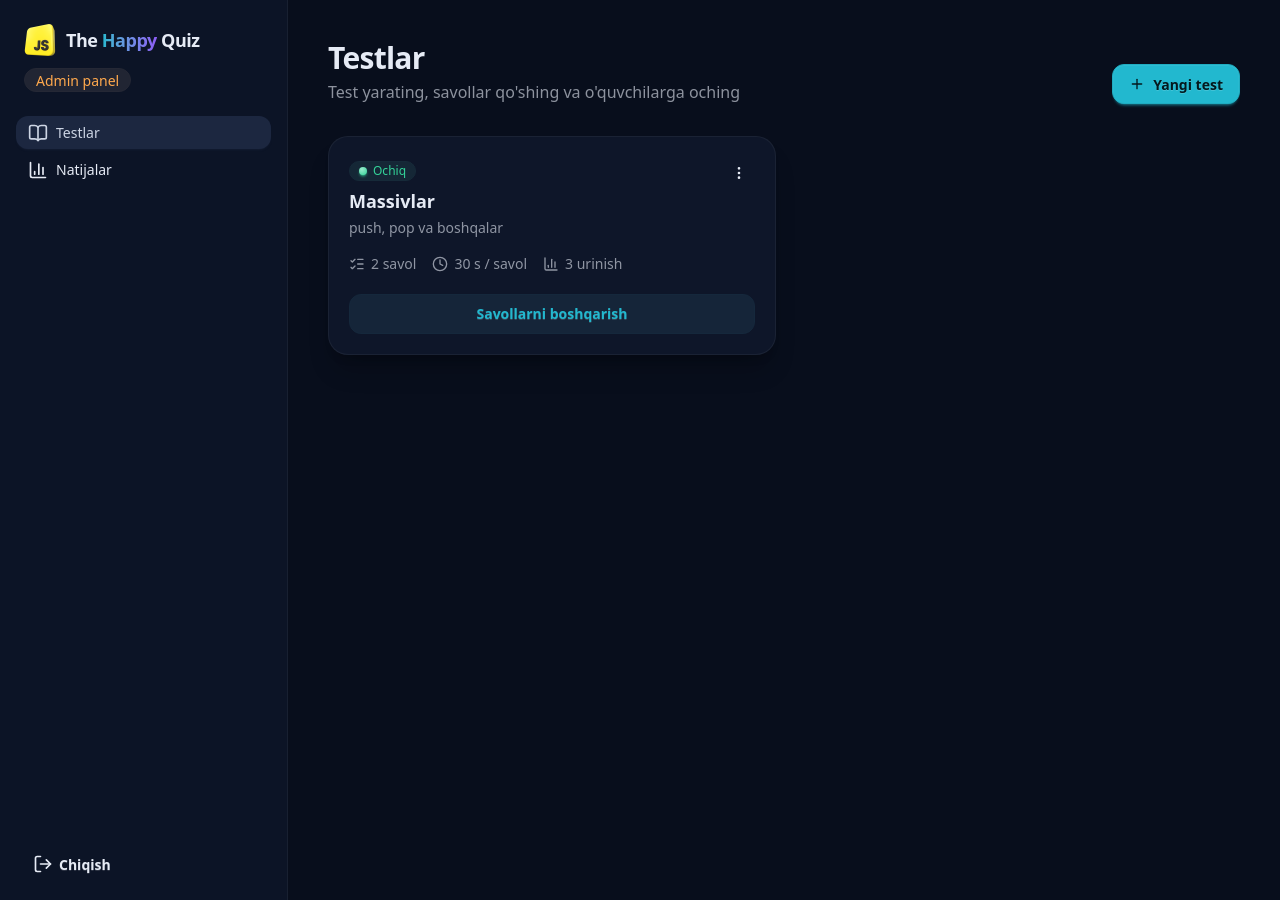
Test: admin › testlar, savollar, statistika va AI tablari ochiladi
Expected: the heading "Massivlar" is shown, 349,189 -> 435,213
Click the link "Savollarni boshqarish".
click(552, 314)  # box 349,294 -> 755,334
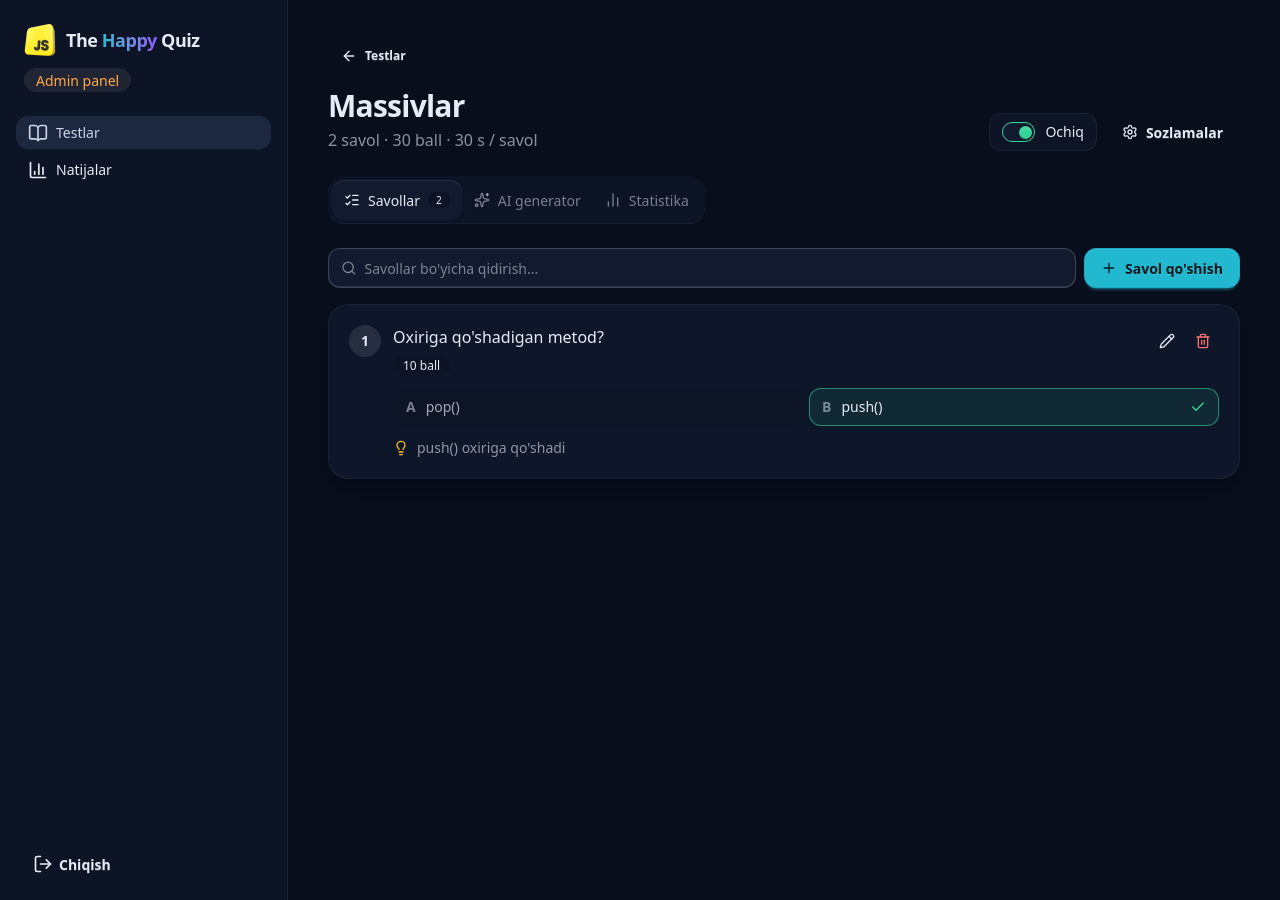
Result: the text "Oxiriga qo'shadigan metod?" is shown at 393,326 -> 604,348
Result: the text "push() oxiriga qo'shadi" is shown at 393,438 -> 566,457
Click the tab "Statistika".
click(647, 200)  # box 593,180 -> 701,220
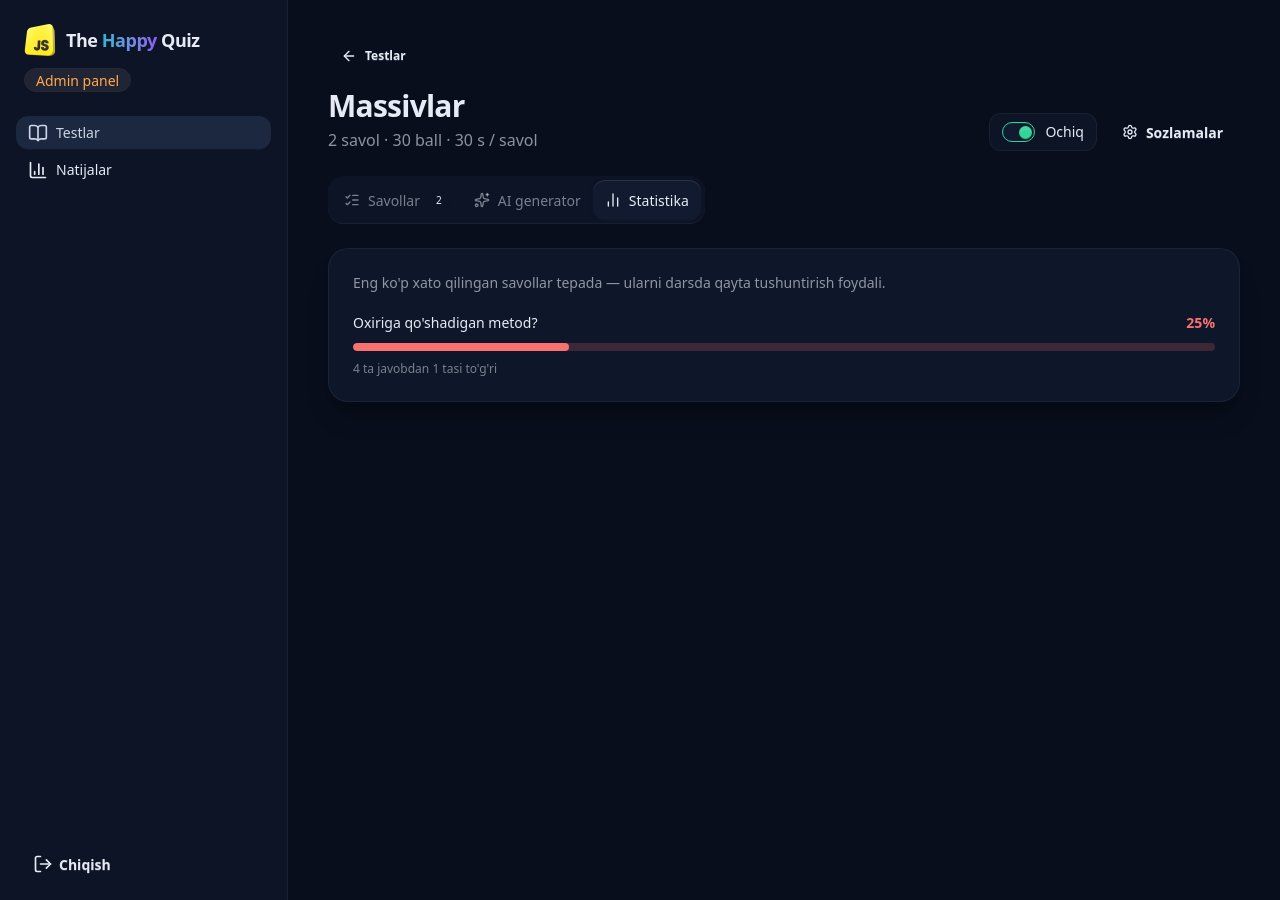
Result: the text "25%" is shown at 1186,313 -> 1215,333
Result: the text "4 ta javobdan 1 tasi to'g'ri" is shown at 353,360 -> 497,377
Click the tab "AI generator".
click(527, 200)  # box 462,180 -> 593,220
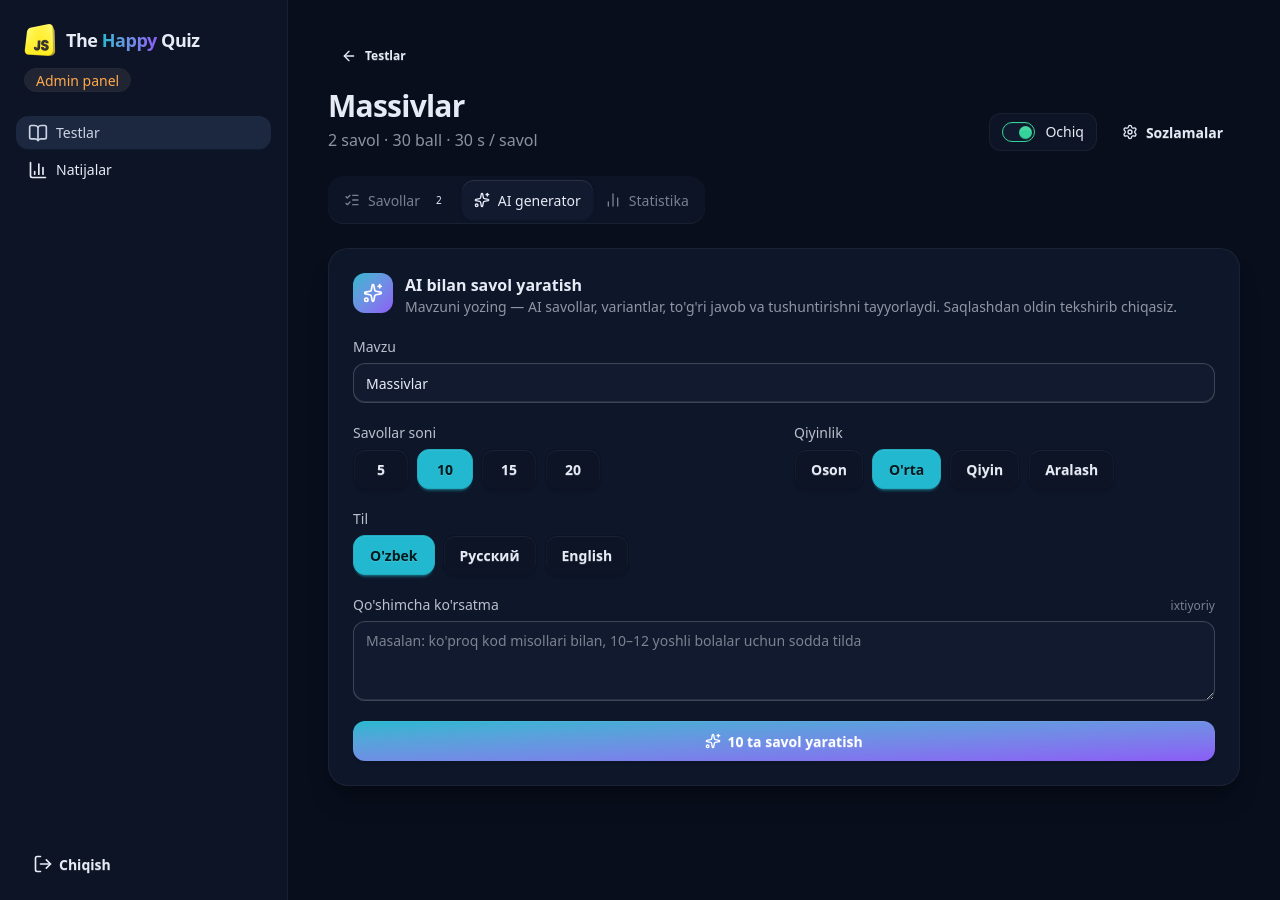
Result: the field labelled "Mavzu" holds "Massivlar" at 353,363 -> 1215,403
